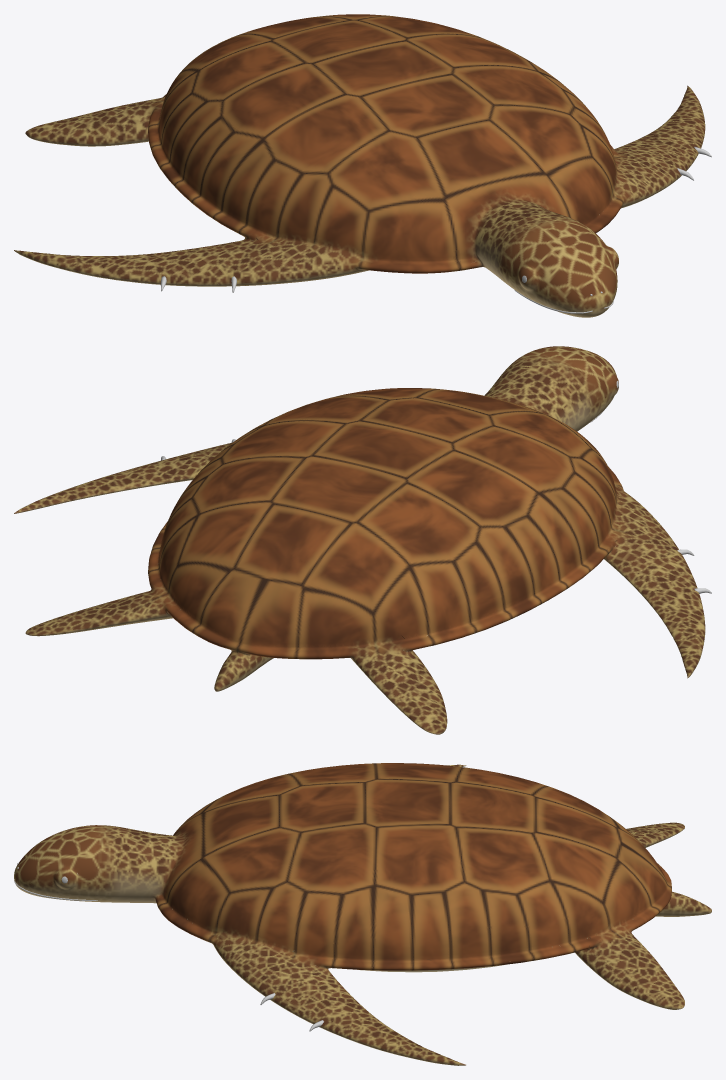
The model's file is LoggerheadTurtle.fbx.
3 renders of one model, top to bottom at view 1: azimuth 30°, elevation 25°; view 2: azimuth 150°, elevation 25°; view 3: azimuth 270°, elevation 25°, orthographic. The views are drawn at different scales.
Visible parts, largest first — view 1: Continuous anatomical skin | sea_turtle; view 2: Continuous anatomical skin | sea_turtle; view 3: Continuous anatomical skin | sea_turtle.
Part boxes in pixels (x1,y1,x2,y2): Continuous anatomical skin | sea_turtle: [14, 14, 705, 317]; Continuous anatomical skin | sea_turtle: [14, 346, 705, 734]; Continuous anatomical skin | sea_turtle: [14, 763, 711, 1065].
Bounding box in the file's own units: 133 × 25.65 × 131.
